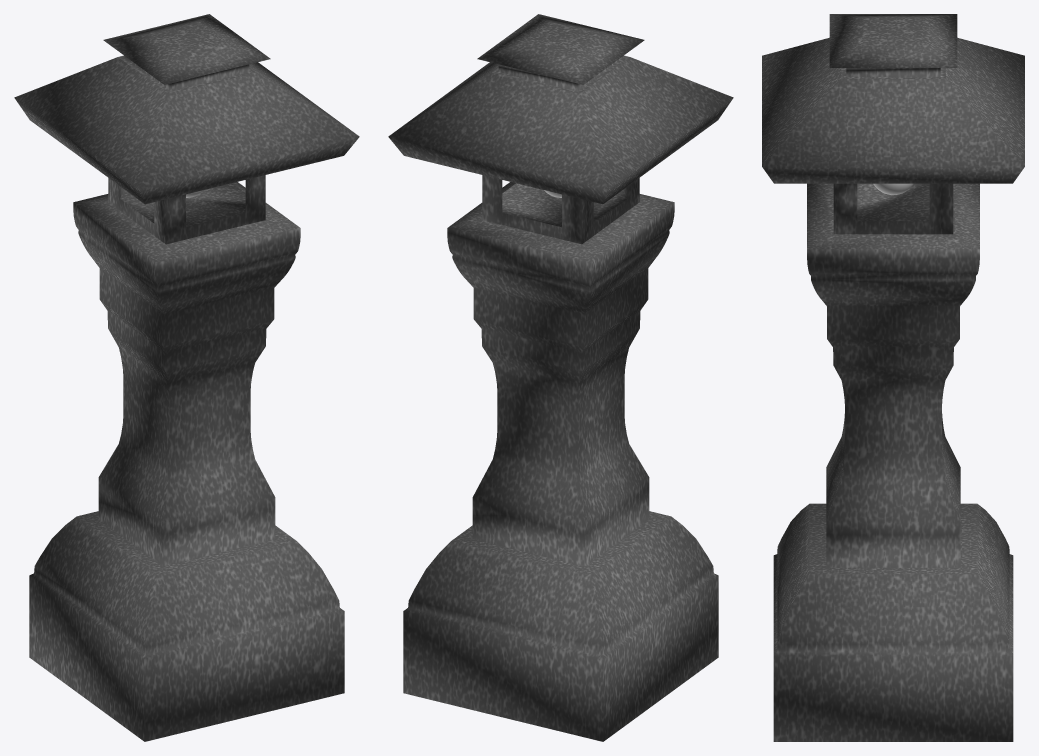
The model's file is fonar.fbx.
3 views of the same model, side by side, from view 1: azimuth 30°, elevation 25°; view 2: azimuth 150°, elevation 25°; view 3: azimuth 270°, elevation 25° (orthographic). The views are drawn at different scales.
Visible parts, largest first — view 1: Cube.001; view 2: Cube.001; view 3: Cube.001.
Boxes of the visible parts, x1=… form: Cube.001: x1=14, y1=14, x2=359, y2=741; Cube.001: x1=388, y1=14, x2=733, y2=741; Cube.001: x1=762, y1=14, x2=1024, y2=741.
Bounding box in the file's own units: 219 × 219 × 608.
